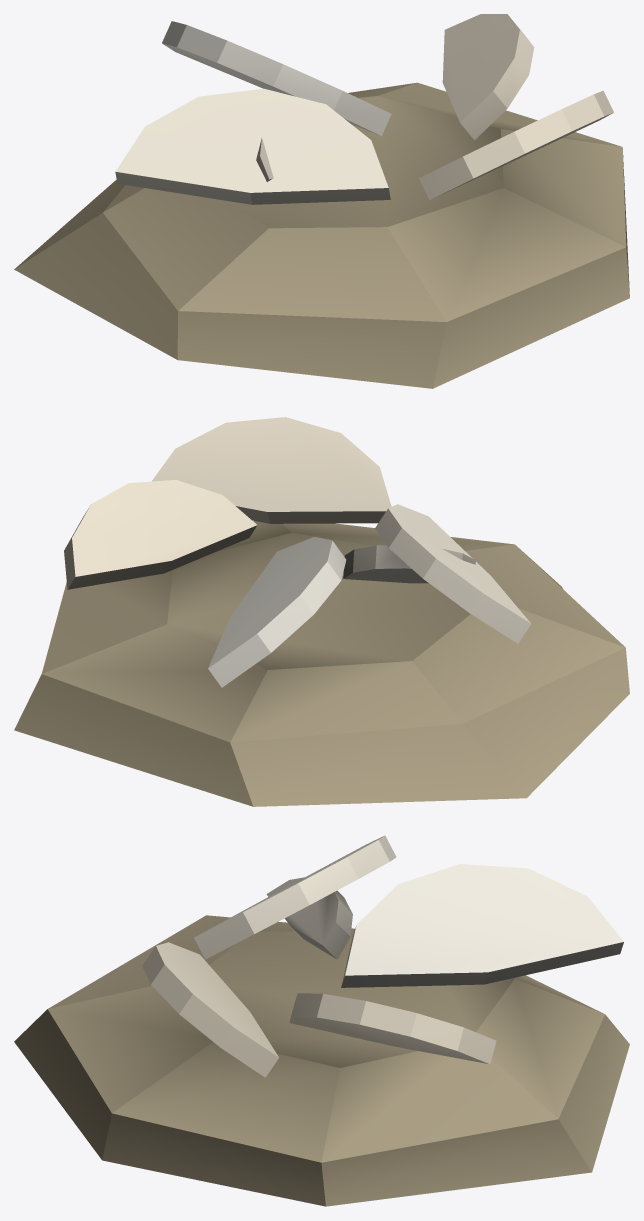
File: shell_pile_a.glb
3 views of the same model, one above another, from view 1: azimuth 30°, elevation 25°; view 2: azimuth 150°, elevation 25°; view 3: azimuth 270°, elevation 25° (orthographic).
Parts seen in each view (by area): view 1: body; view 2: body; view 3: body.
Part boxes in pixels (bbox=[...]): body: bbox=[14, 14, 629, 388]; body: bbox=[14, 417, 629, 806]; body: bbox=[14, 835, 629, 1206].
Size of the model in its own units: 0.5537 by 0.2115 by 0.5472.
